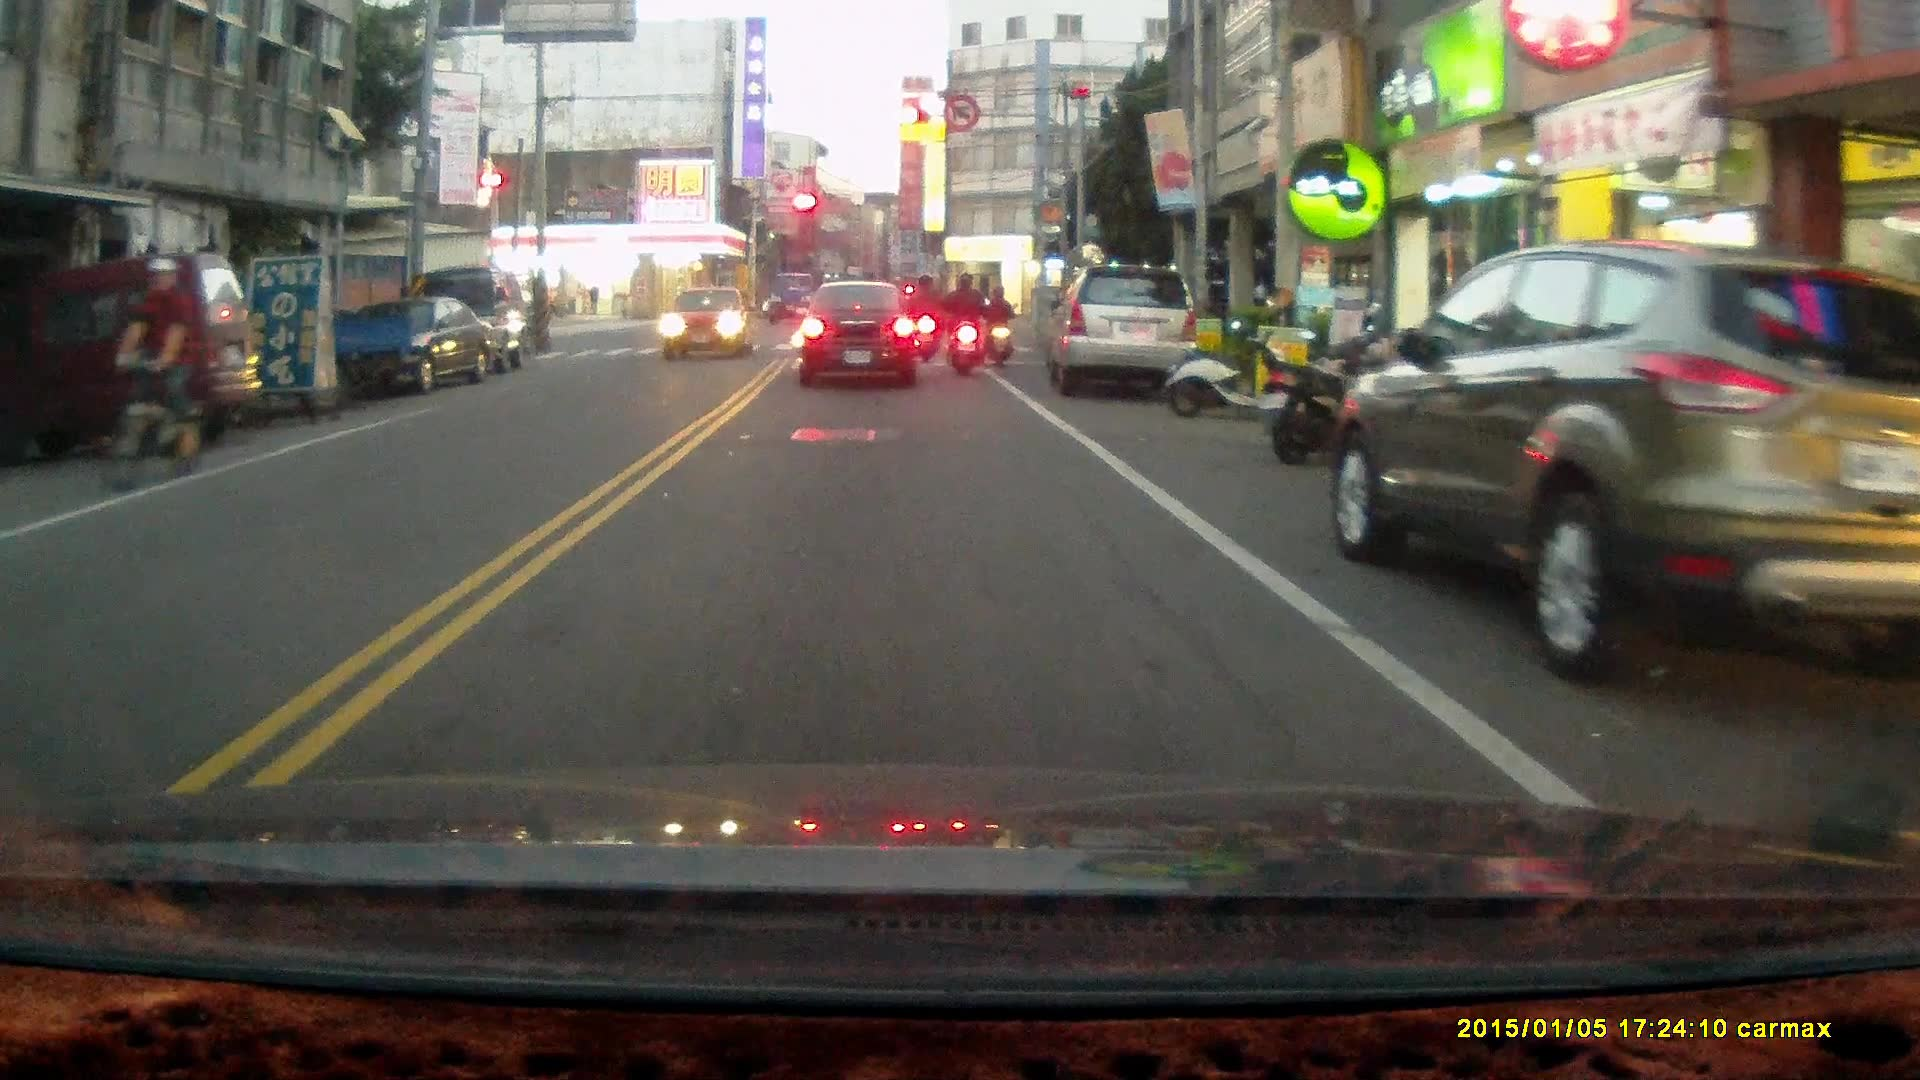rider: (98, 256, 207, 497), (942, 271, 990, 377), (906, 272, 941, 364), (983, 282, 1014, 367)
vehicle: (1338, 235, 1920, 685), (1, 256, 272, 460), (1044, 262, 1203, 405), (323, 294, 504, 397), (804, 280, 930, 390), (414, 262, 529, 377), (663, 284, 754, 359)
